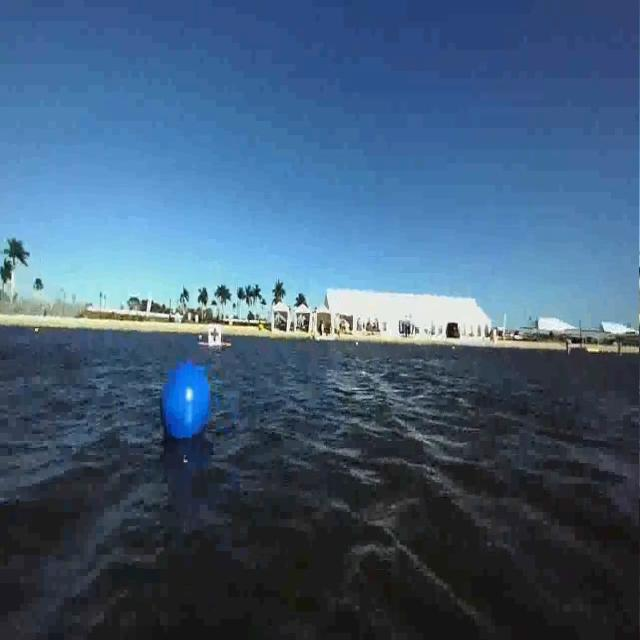blue-buoy: (158, 360, 212, 442)
